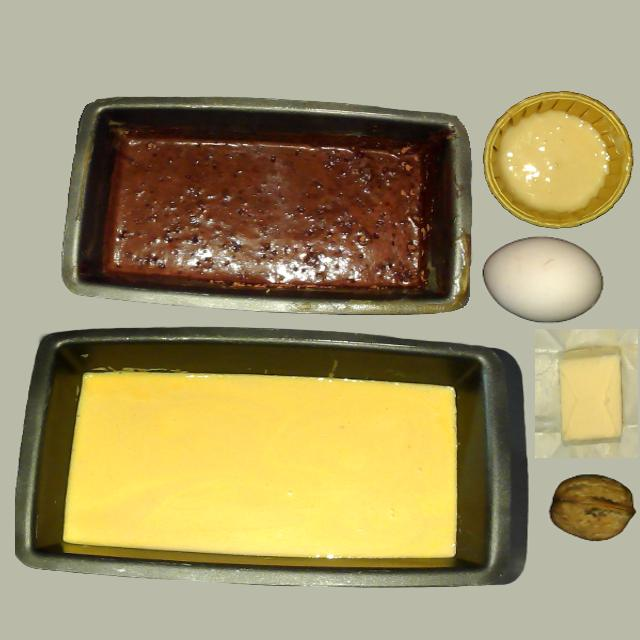Walnut: (545, 464, 637, 550)
